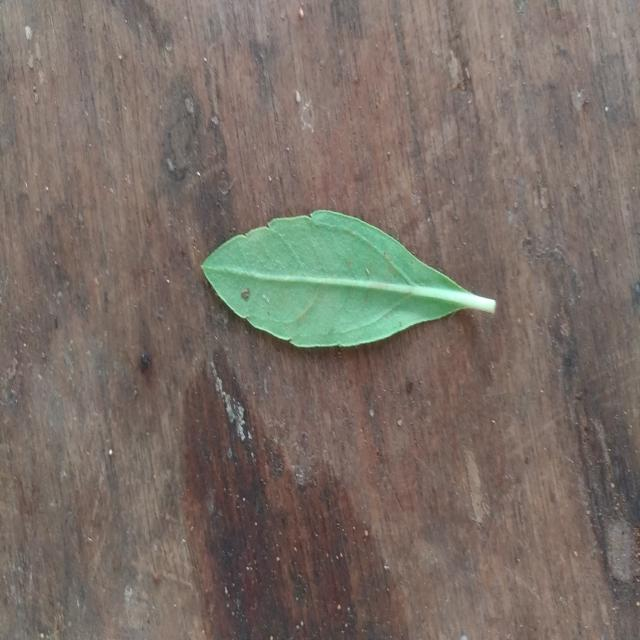bringaraja: (202, 211, 495, 347)
